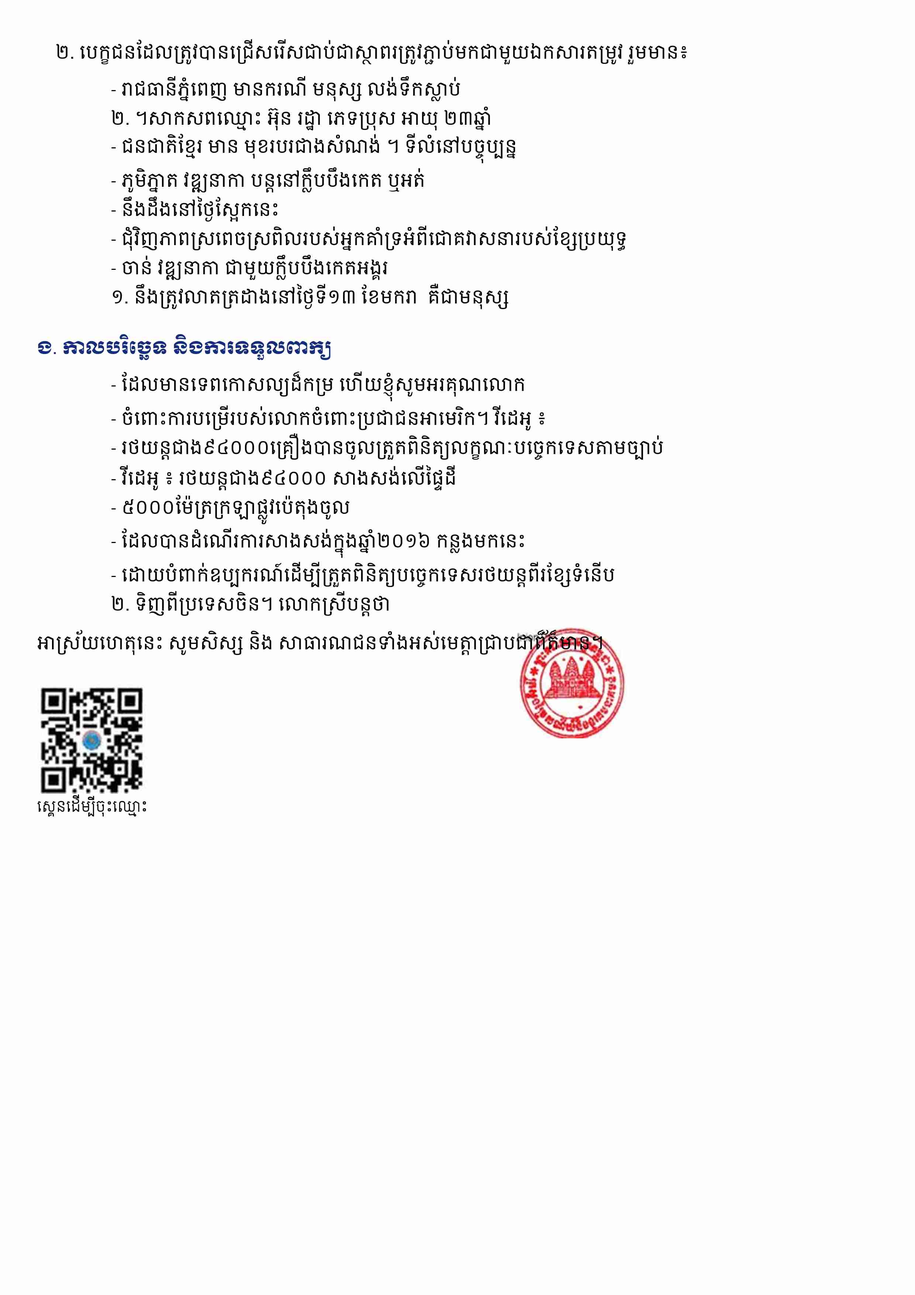decorative: (37, 683, 148, 794), (517, 628, 627, 738)
text: (55, 39, 689, 65), (111, 433, 664, 460), (37, 630, 604, 655), (111, 226, 628, 251), (111, 371, 526, 402), (111, 562, 615, 587), (111, 133, 517, 164), (111, 528, 526, 558), (111, 405, 547, 431), (111, 284, 509, 309), (111, 106, 492, 131), (111, 76, 461, 102), (111, 465, 457, 491), (111, 167, 425, 193), (37, 334, 331, 360), (111, 495, 350, 525), (111, 591, 391, 616), (111, 255, 388, 280), (111, 196, 280, 222), (37, 794, 148, 817)
